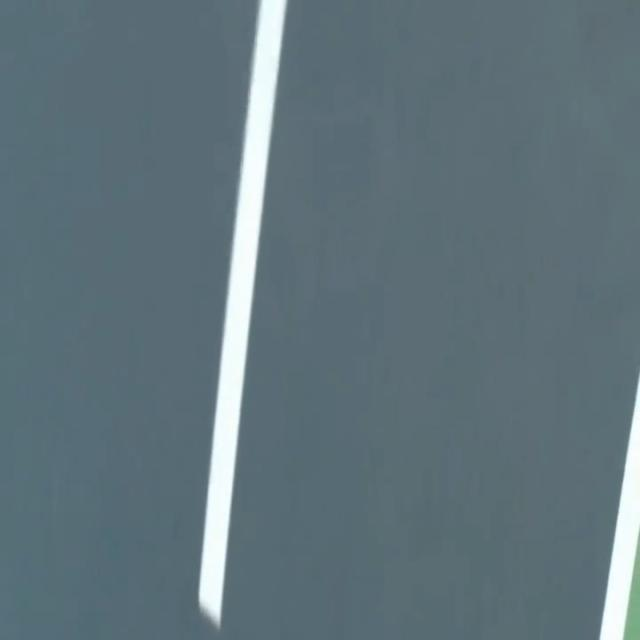center: (199, 0, 286, 627)
right: (599, 374, 639, 639)
